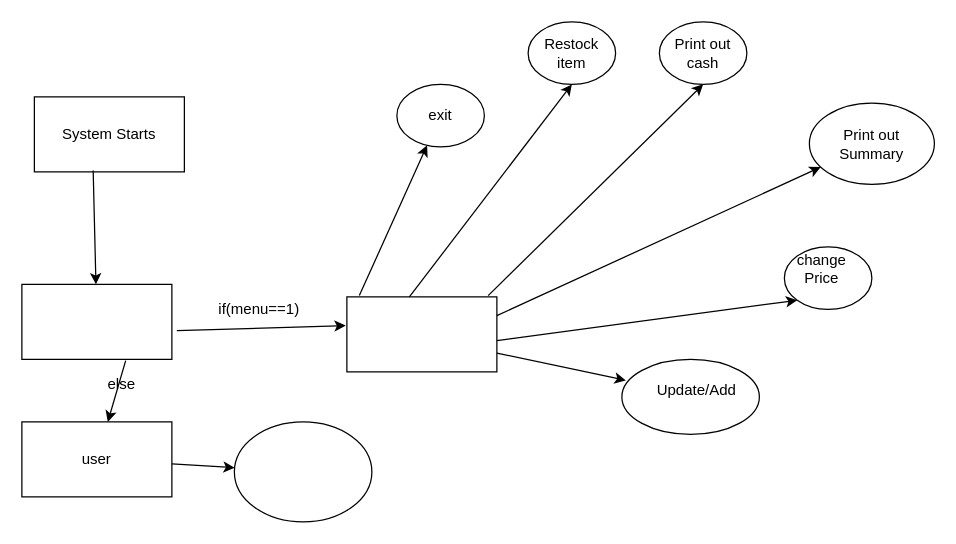
Some shapes in this 956 by 544 pixel diagram are drawn without their labels. The centre of each missing label's shape, as x and y in pixels:
"admin" goes at point 421,334.
"Menu" goes at point 96,321.
"Purchase item" goes at point 302,471.
